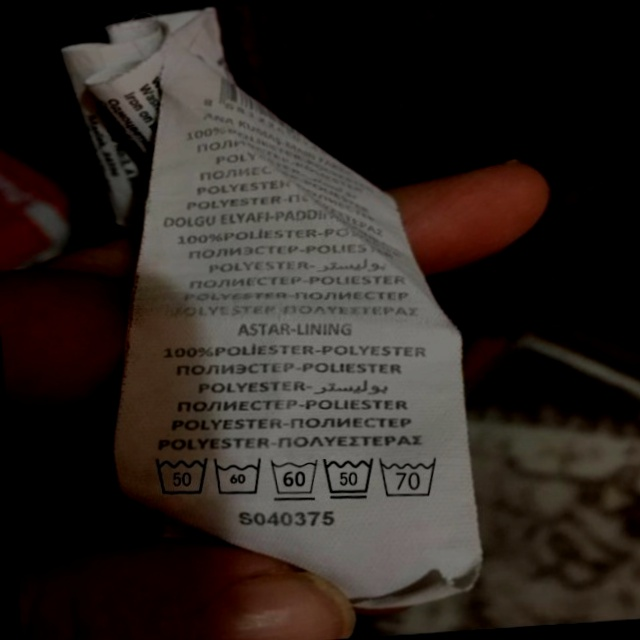50C: (148, 448, 214, 502), (320, 452, 379, 504)
60C: (268, 452, 324, 504), (211, 452, 268, 502)
70C: (378, 452, 445, 501)
